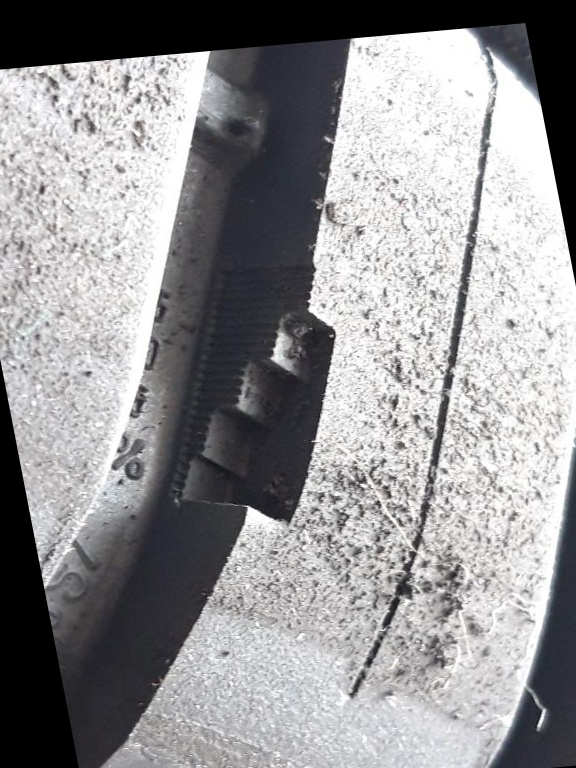temoin:95: (114, 245, 387, 553)
